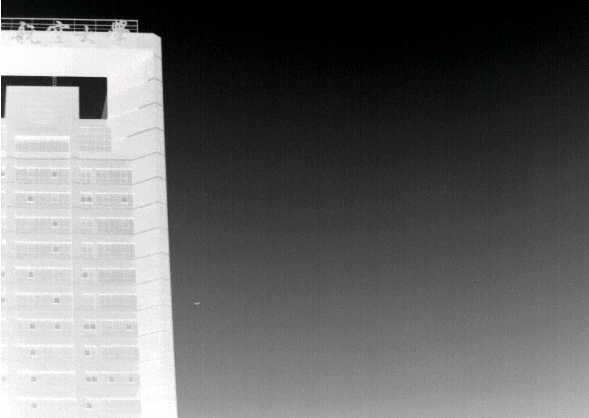dim target: (193, 301, 201, 306)
